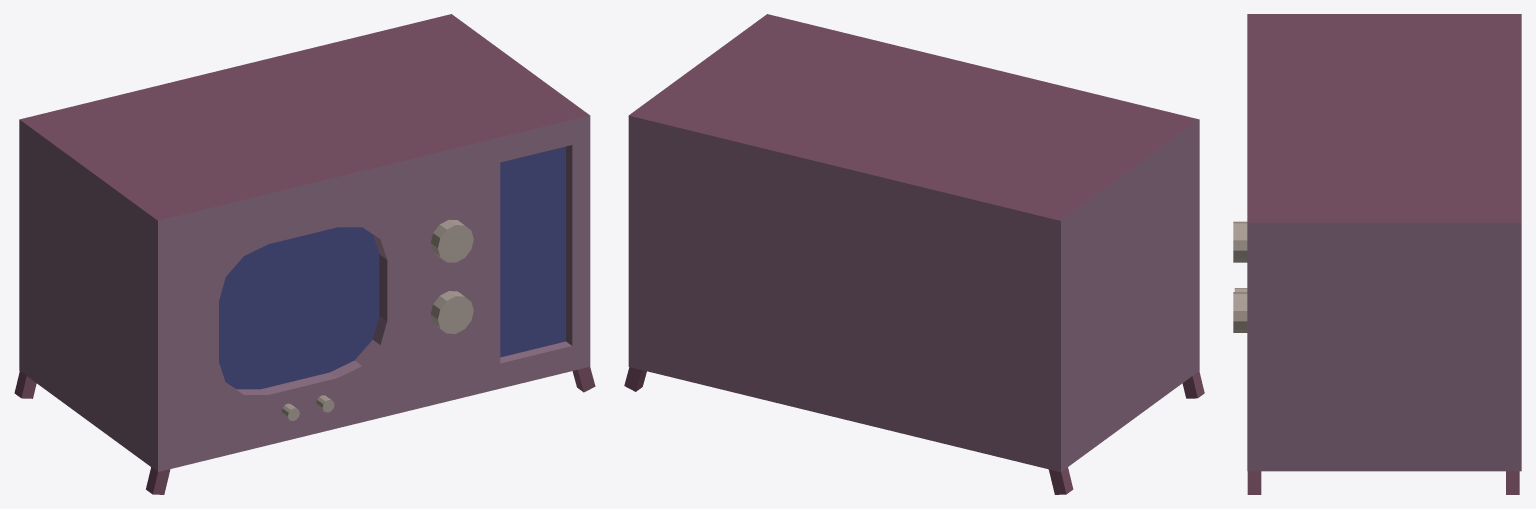
File: uranium_queen.glb
3 views of the same model, side by side, from view 1: azimuth 30°, elevation 25°; view 2: azimuth 150°, elevation 25°; view 3: azimuth 270°, elevation 25° (orthographic).
Visible parts, largest first — view 1: Uranium Queen; view 2: Uranium Queen; view 3: Uranium Queen.
Part boxes in pixels (bbox=[...]): Uranium Queen: bbox=[14, 14, 595, 494]; Uranium Queen: bbox=[624, 14, 1204, 494]; Uranium Queen: bbox=[1233, 14, 1521, 494].
Size of the model in its own units: 1.84 by 1.1 by 1.05.
